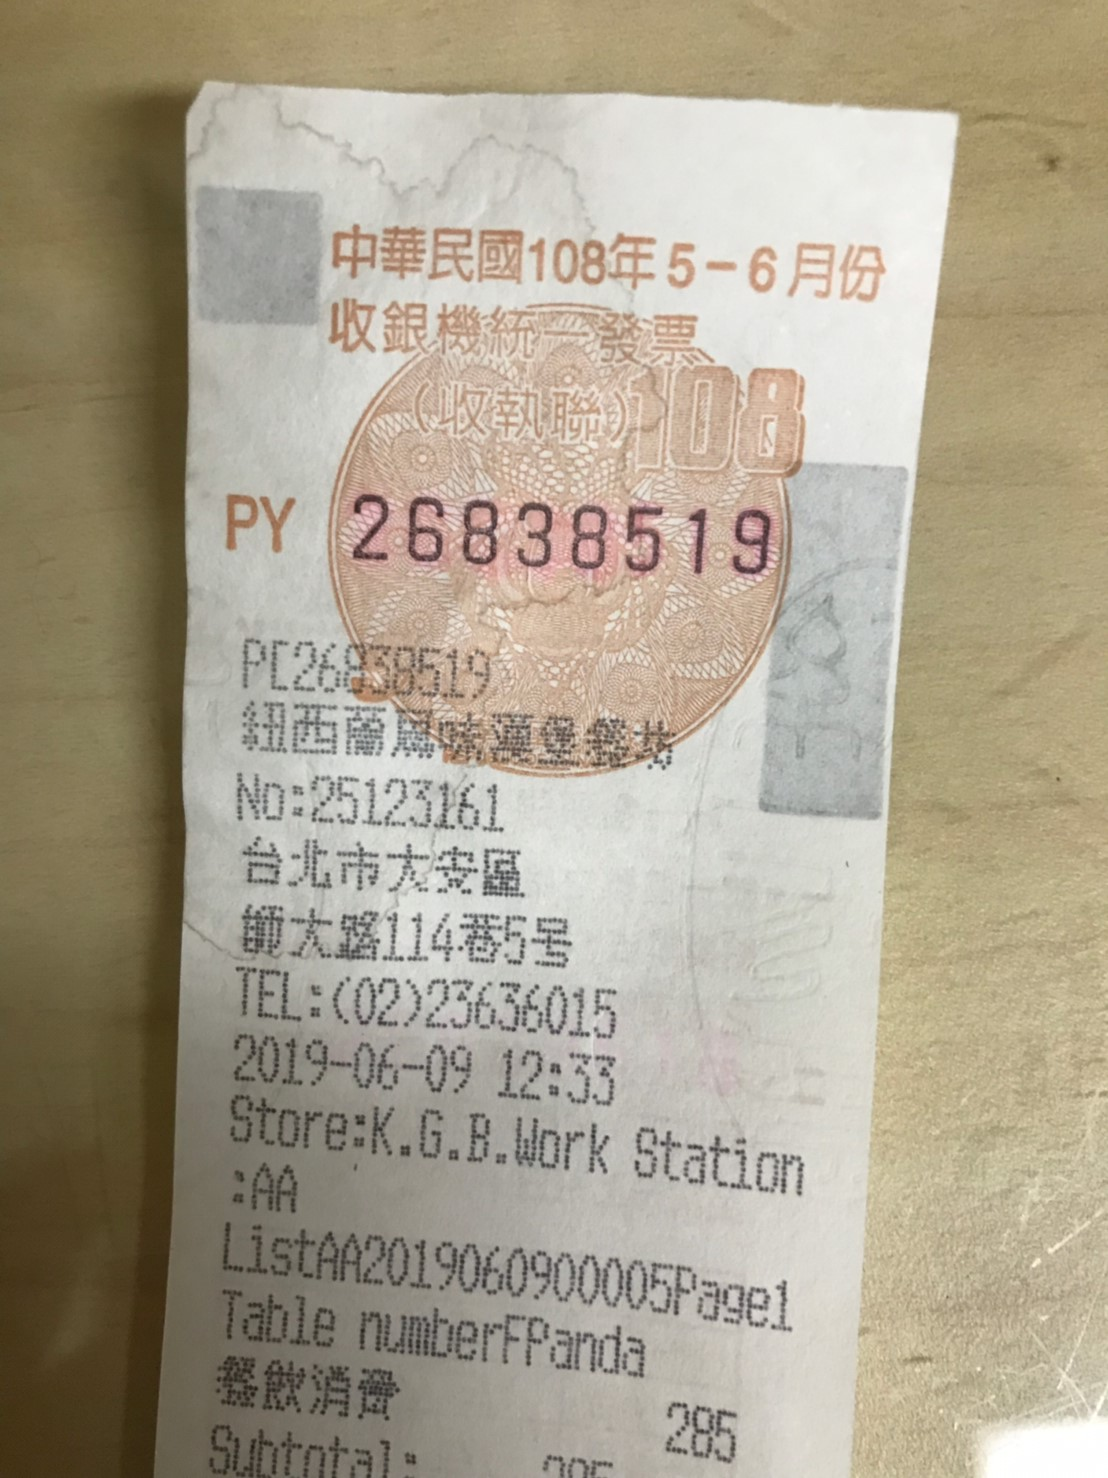Date_Old: (527, 230, 893, 306)
Number_Old: (347, 486, 776, 580)
